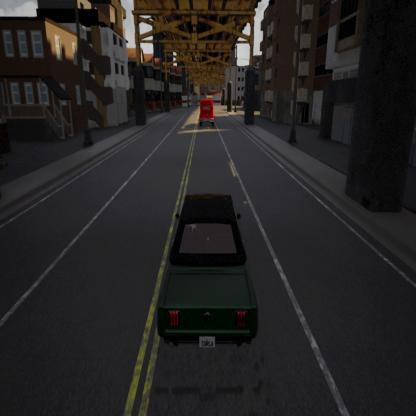Cars: (155, 196, 257, 353), (198, 99, 217, 128)
